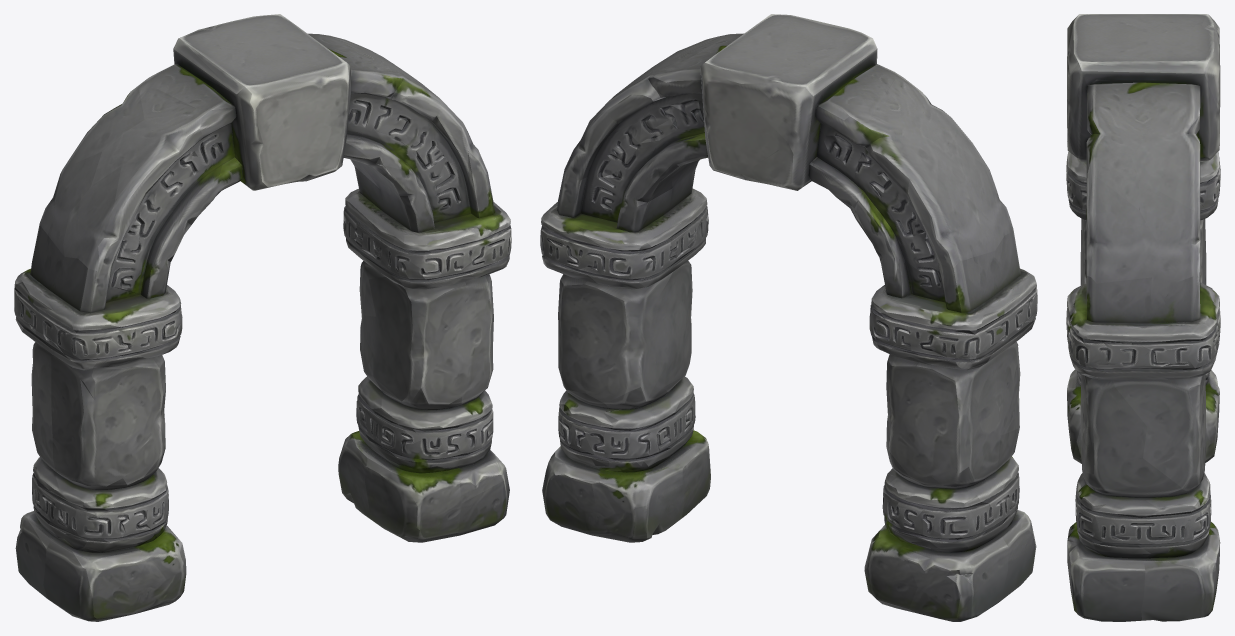
The model's file is arch_t1.glb.
3 views of the same model, side by side, from view 1: azimuth 30°, elevation 25°; view 2: azimuth 150°, elevation 25°; view 3: azimuth 270°, elevation 25° (orthographic). The views are drawn at different scales.
Bounding box in the file's own units: 1.77 × 1.9 × 0.5482.
Materials: 1 (1 with a texture image).
